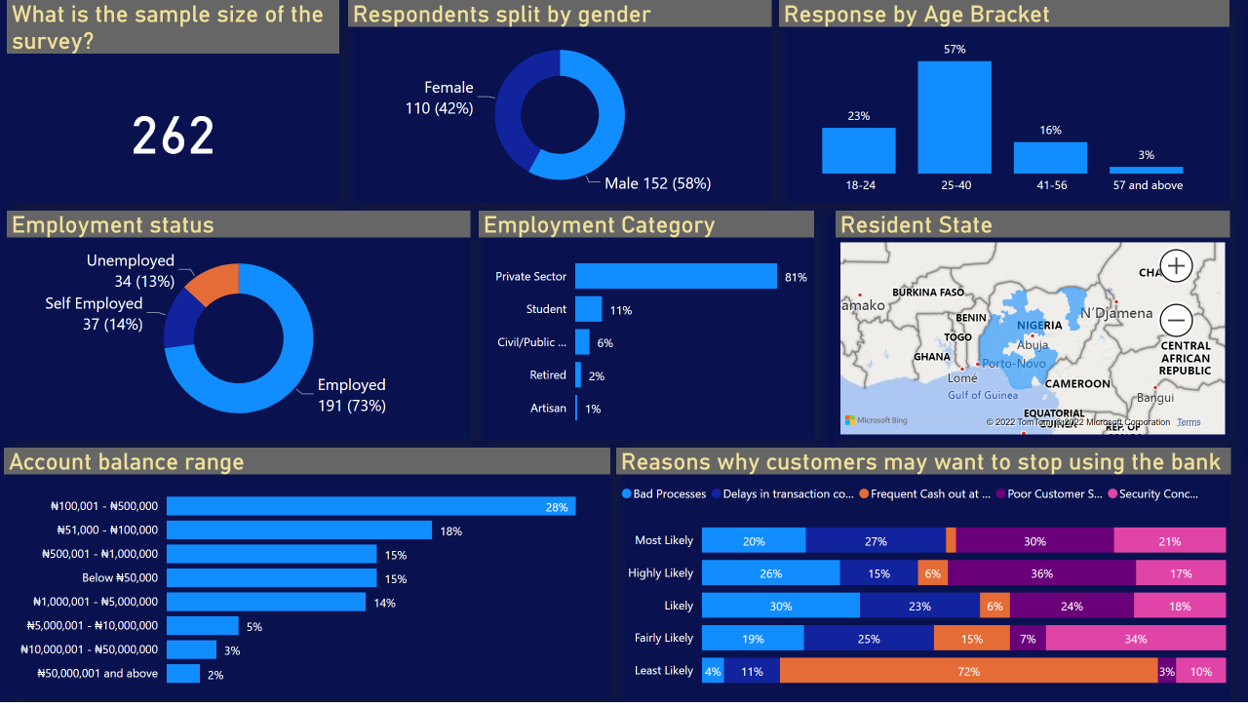

Layout of this report page (visuals, bound fields, positions):
{"tool":"powerbi","page":{"name":"Demographics ","canvas":[1280,720],"ordinal":0},"visuals":[{"type":"card","title":"What is the sample size of the survey?","fields":{"Values":["CountNonNull(Respondents.ResponseID)"]},"box":[7.5,0,340.9,208.1],"z":0,"group":"g1"},{"type":"group","id":"g1","title":"Group 1","box":[4.4,0,1257.6,715.7],"z":0},{"type":"donutChart","title":"Respondents split by gender","fields":{"Category":["Respondents.Gender"],"Y":["CountNonNull(Respondents.Gender)"]},"box":[357.4,0,434.3,208.1],"z":1000,"group":"g1"},{"type":"filledMap","title":"Resident State","fields":{"Category":["Respondents.Resident State"]},"box":[856.8,216,404.6,234.7],"z":1000},{"type":"clusteredColumnChart","title":"Response by Age Bracket","fields":{"Category":["Respondents.Age Bracket"],"Y":["CountNonNull(Respondents.Age Bracket)"]},"box":[799.8,0,462.2,208.1],"z":2000,"group":"g1"},{"type":"hundredPercentStackedBarChart","title":"Reasons why customers may want to stop using the bank","fields":{"Series":["Responses.Trigger"],"Y":["CountNonNull(Responses.Trigger)"],"Category":["Responses.Scale"]},"box":[632.2,459.4,630.7,260.6],"z":2000},{"type":"donutChart","title":"Employment status","fields":{"Category":["Respondents.Employment Status"],"Y":["CountNonNull(Respondents.Employment Status)"]},"box":[7.5,216.3,475.3,234.4],"z":3000,"group":"g1"},{"type":"clusteredBarChart","title":"Employment Category","fields":{"Category":["Respondents.Employment Category"],"Y":["CountNonNull(Respondents.Employment Category)"]},"box":[491,216.3,344.2,234.4],"z":4000,"group":"g1"},{"type":"clusteredBarChart","title":"Account balance range","fields":{"Category":["Respondents.Account Balance"],"Y":["CountNonNull(Respondents.Account Balance)"]},"box":[4.4,459.4,622.1,256.3],"z":5000,"group":"g1"}]}

Visuals, with their boxes in screenshot pixels (x1, y1, x2, y2), scaled from the page's 1280x720 canvas onto the 1248x712 screenshot:
"What is the sample size of the survey?" card: (x1=7, y1=0, x2=340, y2=206)
"Group 1" group: (x1=4, y1=0, x2=1230, y2=708)
"Respondents split by gender" donutChart: (x1=348, y1=0, x2=772, y2=206)
"Resident State" filledMap: (x1=835, y1=214, x2=1230, y2=446)
"Response by Age Bracket" clusteredColumnChart: (x1=780, y1=0, x2=1230, y2=206)
"Reasons why customers may want to stop using the bank" hundredPercentStackedBarChart: (x1=616, y1=454, x2=1231, y2=711)
"Employment status" donutChart: (x1=7, y1=214, x2=471, y2=446)
"Employment Category" clusteredBarChart: (x1=479, y1=214, x2=814, y2=446)
"Account balance range" clusteredBarChart: (x1=4, y1=454, x2=611, y2=708)
